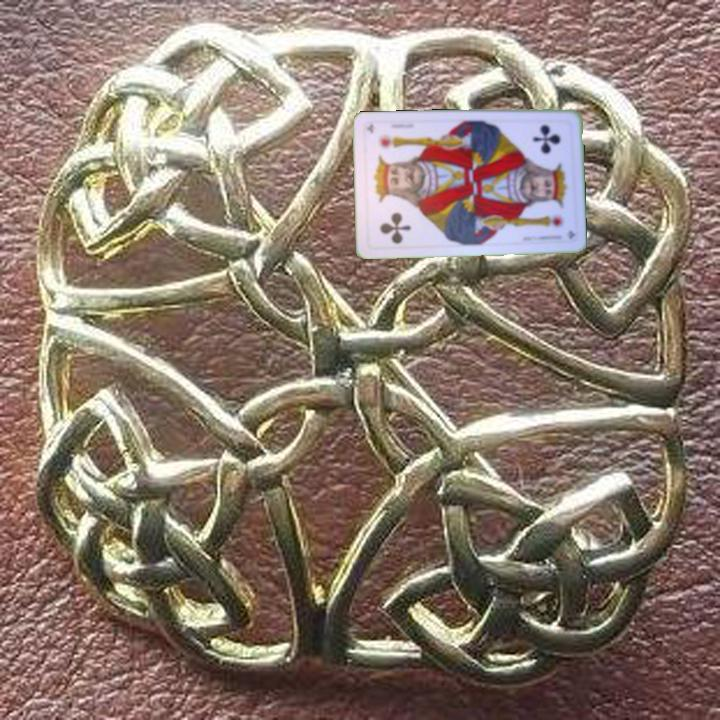c_k.png: (363, 181, 423, 249), (515, 116, 574, 184)
